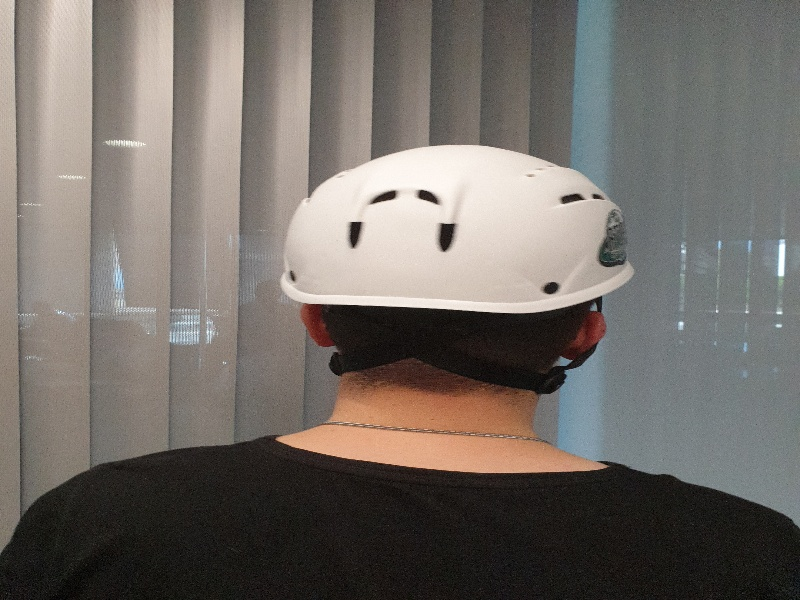Baret: (280, 144, 636, 308)
